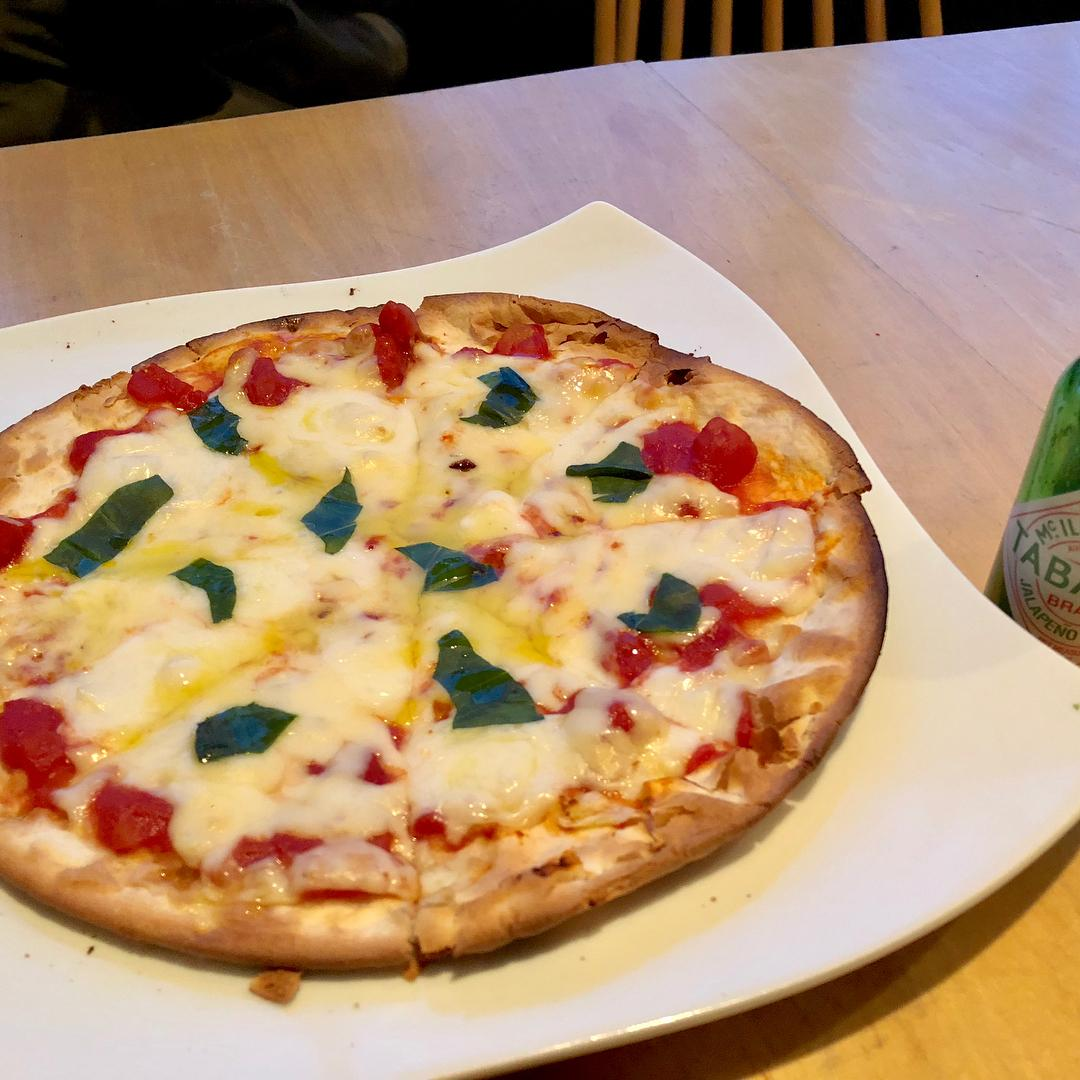Basil: (43, 463, 167, 585), (430, 627, 550, 733), (192, 697, 295, 769), (384, 536, 500, 592), (167, 550, 246, 627), (619, 566, 701, 637), (185, 392, 259, 462), (299, 475, 363, 550), (573, 443, 647, 504), (465, 364, 535, 426)
Pizza: (0, 293, 887, 975)
